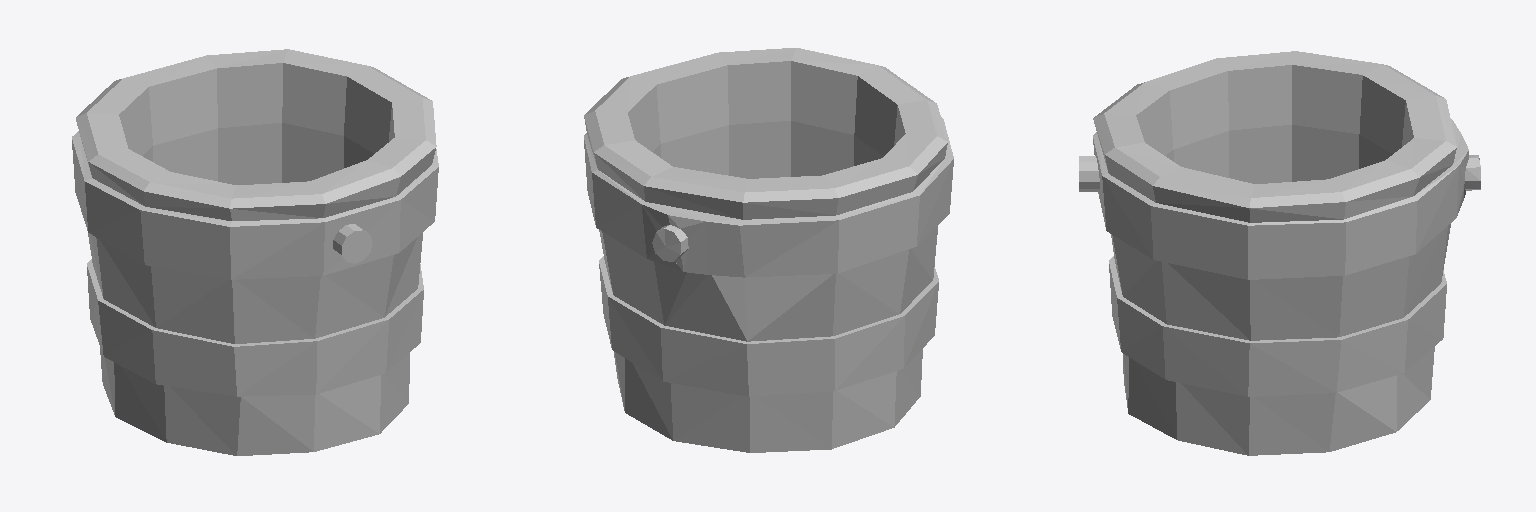
The model's file is Well_Bucket.obj.
3 renders of one model, left to right at view 1: azimuth 30°, elevation 25°; view 2: azimuth 150°, elevation 25°; view 3: azimuth 270°, elevation 25°, orthographic.
Parts seen in each view (by area): view 1: Well_Bucket:polySurface3; view 2: Well_Bucket:polySurface3; view 3: Well_Bucket:polySurface3.
Boxes of the visible parts, <box> form: Well_Bucket:polySurface3: <box>72,49,438,455</box>; Well_Bucket:polySurface3: <box>584,48,953,452</box>; Well_Bucket:polySurface3: <box>1079,51,1480,455</box>.
Size of the model in its own units: 0.2499 by 0.1993 by 0.269.